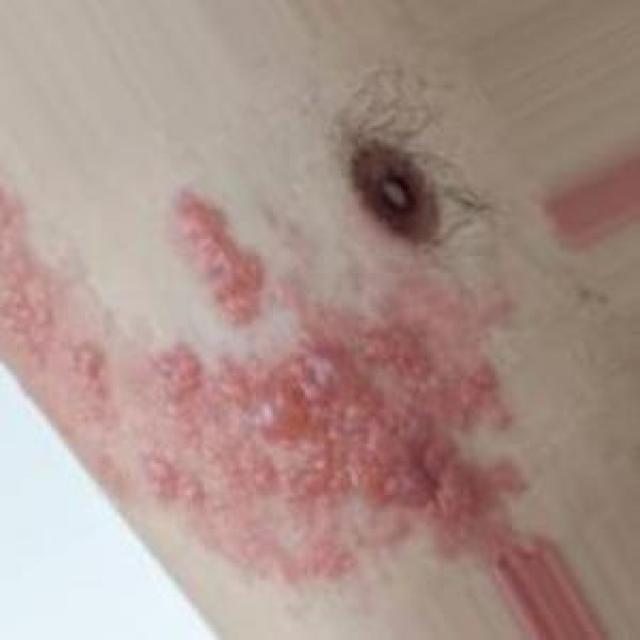Shingles: (59, 194, 504, 536)
